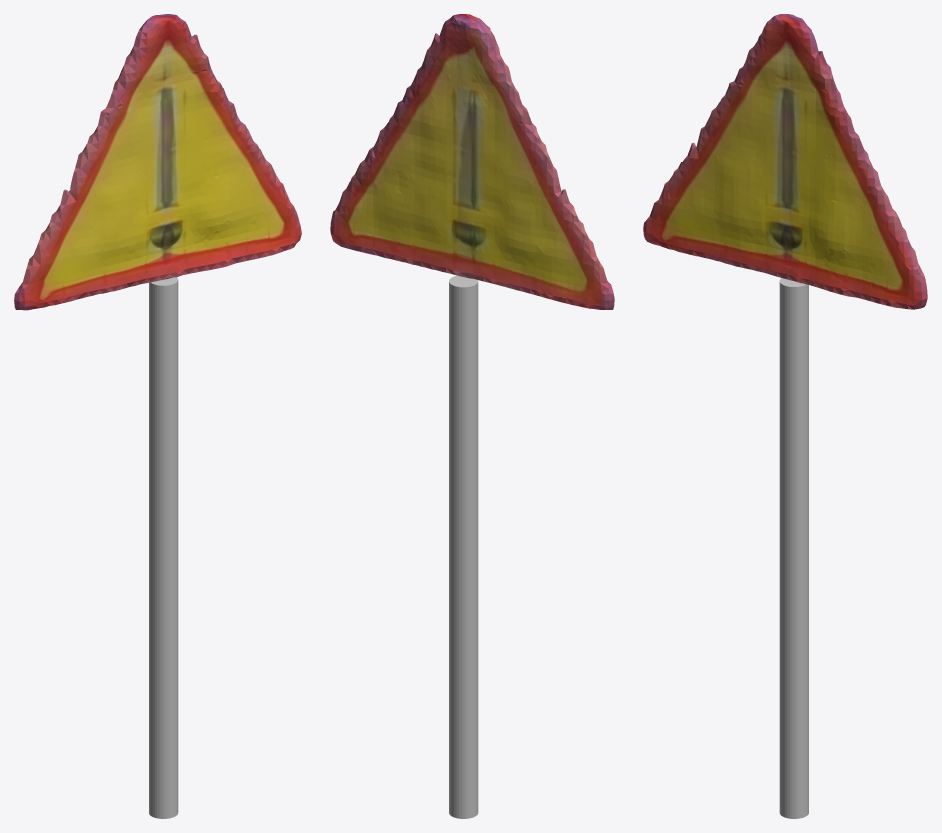
The model's file is danger_sign.obj.
3 views of the same model, side by side, from view 1: azimuth 30°, elevation 25°; view 2: azimuth 150°, elevation 25°; view 3: azimuth 330°, elevation 25° (orthographic).
Visible parts, largest first — view 1: danger_sign, Cylinder; view 2: danger_sign, Cylinder; view 3: danger_sign, Cylinder.
Boxes of the visible parts, x1,y1,x2,y2 form: danger_sign: [14, 14, 301, 310]; Cylinder: [149, 277, 178, 818]; danger_sign: [330, 14, 614, 309]; Cylinder: [449, 275, 478, 818]; danger_sign: [643, 14, 927, 309]; Cylinder: [779, 278, 808, 818].
Size of the model in its own units: 0.5611 by 1.5 by 0.0521.
2 materials, 1 textured.
